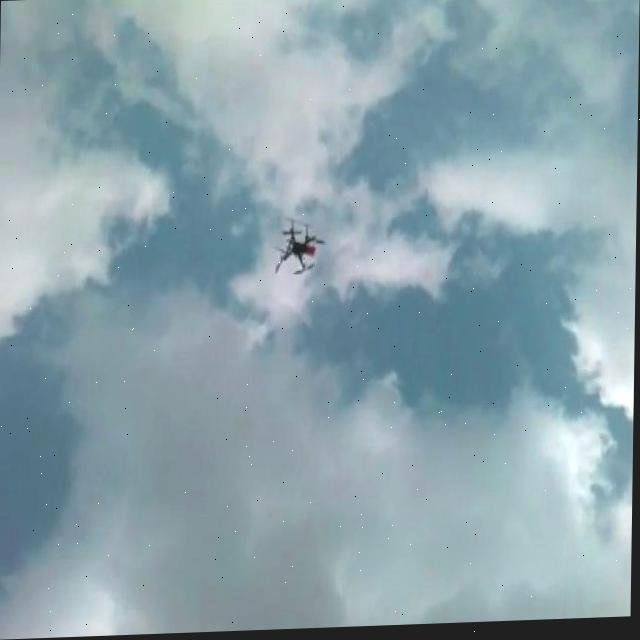drone: (273, 220, 329, 282)
